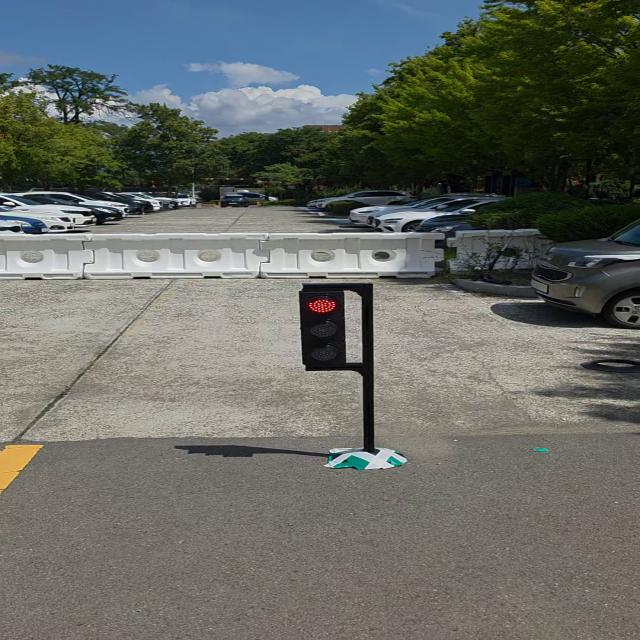red: (289, 286, 355, 372)
